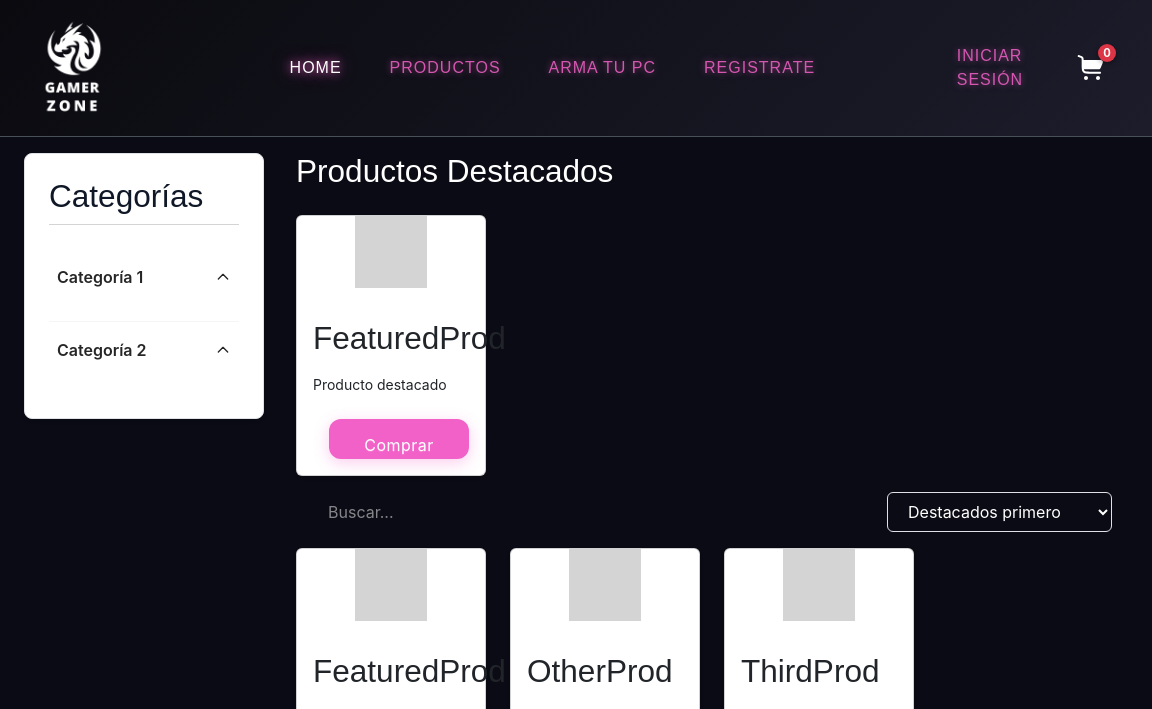
ProductPage › la barra de busqueda funciona con descripcion del producto
Step 1. Type "destacado" into the field with placeholder "Buscar..." → coordinates (440, 512), box [312,492,568,532]
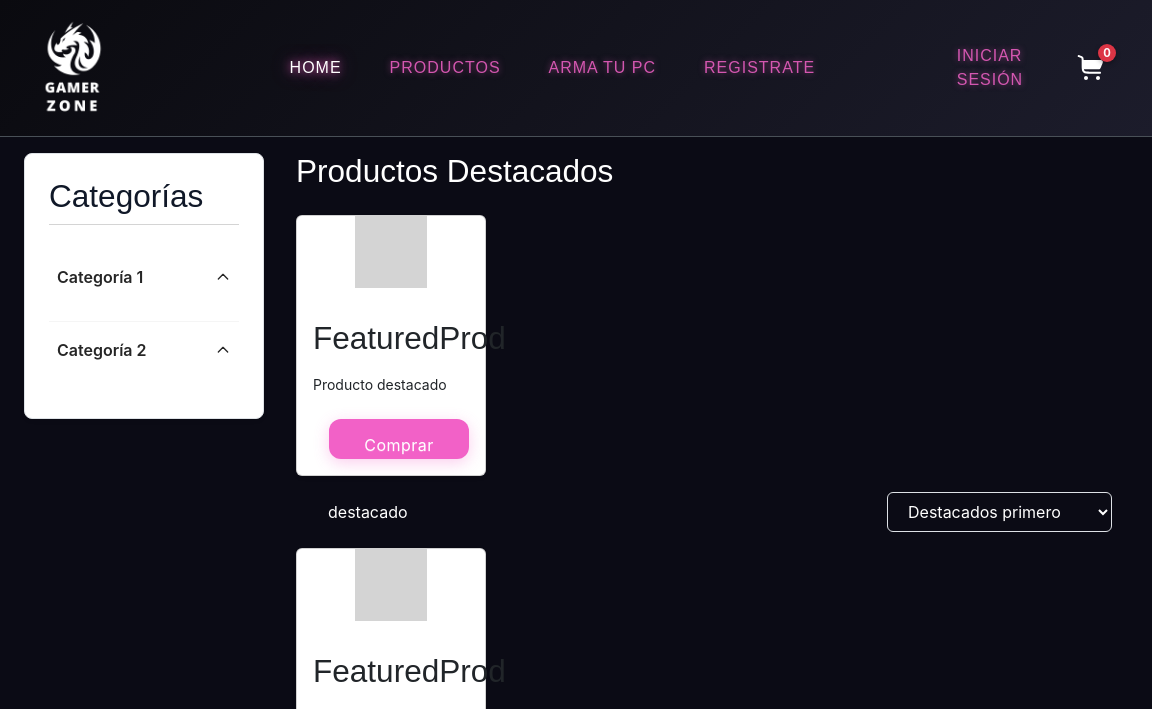
Expected: the heading "FeaturedProd" below "Productos Destacados" is shown, [313,320,506,356]
Result: the heading "OtherProd" is gone
